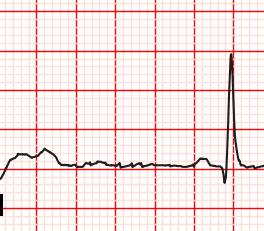Pathological Q Wave: (205, 154, 231, 186)
